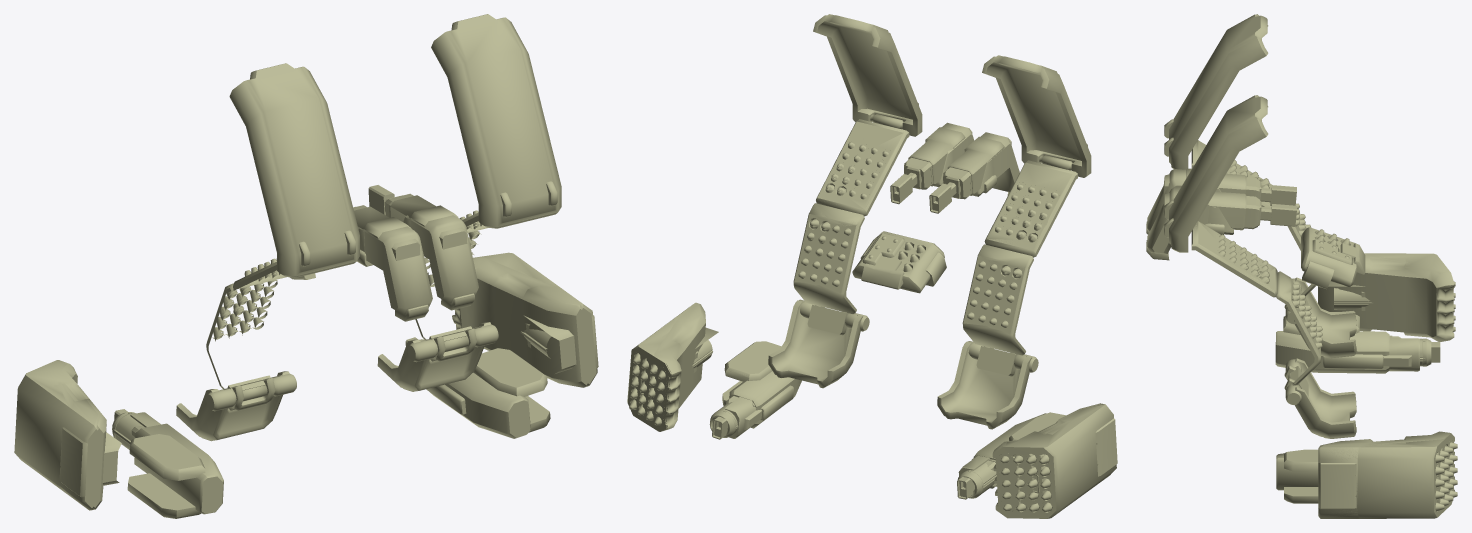
The model's file is ArcherWeapons.glb.
The picture shows the model from 3 angles, left to right: view 1: azimuth 30°, elevation 25°; view 2: azimuth 150°, elevation 25°; view 3: azimuth 270°, elevation 25°; orthographic projection. The views are drawn at different scales.
Parts seen in each view (by area): view 1: Torso_Right_MH2_Blank, Torso_Left_MH1_Blank, Forearm_Right_MH1_Missile5, Forearm_Left_MH1_Missile20, Forearm_Left_EH2_PPC, Torso_MH1_Missile6, Torso_MH1_Missile2, Forearm_Right_EH2_Laser, Forearm_Right_EH2_Flamer, Torso_Center_EH2_Flamer, Forearm_Left_MH1_Missile2, Forearm_Left_EH2_Laser (+10 smaller); view 2: Torso_Left_MH1_Blank, Torso_Right_MH2_Blank, Forearm_Left_MH1_Missile20, Torso_Right_MH2_Missile2, Forearm_Right_MH1_Missile5, Torso_MH1_Missile10, Torso_Left_MH1_Missile20, Forearm_Right_MH1_Missile20, Torso_Left_MH2_Missile2, Torso_Right_MH1_Missile15, Torso_Left_MH2_Missile10, Forearm_Right_EH2_PPC (+22 smaller); view 3: Torso_Right_MH2_Blank, Torso_Left_MH1_Blank, Forearm_Right_MH1_Missile20, Forearm_Left_MH1_Missile5, Forearm_Left_EH2_PPC, Torso_MH1_Missile10, Forearm_Right_MH1_Missile2, Torso_Center_EH2_Flamer, Torso_MH1_Missile6, Forearm_Right_EH2_PPC, Forearm_Right_MH1_Missile15, Torso_Center_EH1_Flamer (+14 smaller).
Part boxes in pixels (box(x1,y1,x2,y2)): Torso_Right_MH2_Blank: box(377, 14, 561, 391); Torso_Left_MH1_Blank: box(176, 63, 359, 441); Forearm_Right_MH1_Missile5: box(452, 257, 587, 387); Forearm_Left_MH1_Missile20: box(14, 360, 100, 510); Forearm_Left_EH2_PPC: box(112, 412, 223, 517); Torso_MH1_Missile6: box(357, 215, 478, 321); Torso_MH1_Missile2: box(357, 226, 432, 320); Forearm_Right_EH2_Laser: box(462, 348, 549, 437); Forearm_Right_EH2_Flamer: box(405, 337, 545, 438); Torso_Center_EH2_Flamer: box(368, 185, 467, 249); Forearm_Left_MH1_Missile2: box(59, 427, 87, 497); Forearm_Left_EH2_Laser: box(127, 426, 200, 514); Torso_Left_MH1_Blank: box(937, 55, 1091, 429); Torso_Right_MH2_Blank: box(768, 14, 922, 388); Forearm_Left_MH1_Missile20: box(995, 404, 1116, 518); Torso_Right_MH2_Missile2: box(794, 204, 864, 313); Forearm_Right_MH1_Missile5: box(649, 303, 705, 431); Torso_MH1_Missile10: box(852, 234, 946, 293); Torso_Left_MH1_Missile20: box(986, 163, 1072, 249); Forearm_Right_MH1_Missile20: box(627, 304, 694, 430); Torso_Left_MH2_Missile2: box(963, 255, 1025, 334); Torso_Right_MH1_Missile15: box(817, 121, 903, 209); Torso_Left_MH2_Missile10: box(962, 244, 1033, 355); Forearm_Right_EH2_PPC: box(709, 342, 793, 438); Torso_Right_MH2_Blank: box(1164, 95, 1356, 438); Torso_Left_MH1_Blank: box(1164, 14, 1356, 358); Forearm_Right_MH1_Missile20: box(1318, 434, 1457, 518); Forearm_Left_MH1_Missile5: box(1318, 258, 1453, 341); Forearm_Left_EH2_PPC: box(1275, 312, 1431, 373); Torso_MH1_Missile10: box(1301, 227, 1365, 289); Forearm_Right_MH1_Missile2: box(1318, 439, 1454, 509); Torso_Center_EH2_Flamer: box(1163, 191, 1296, 228); Torso_MH1_Missile6: box(1146, 184, 1233, 260); Forearm_Right_EH2_PPC: box(1276, 458, 1318, 503); Forearm_Right_MH1_Missile15: box(1318, 434, 1454, 518); Torso_Center_EH1_Flamer: box(1163, 168, 1296, 205).
Bounding box in the file's own units: 1.63 × 1.34 × 1.03.
